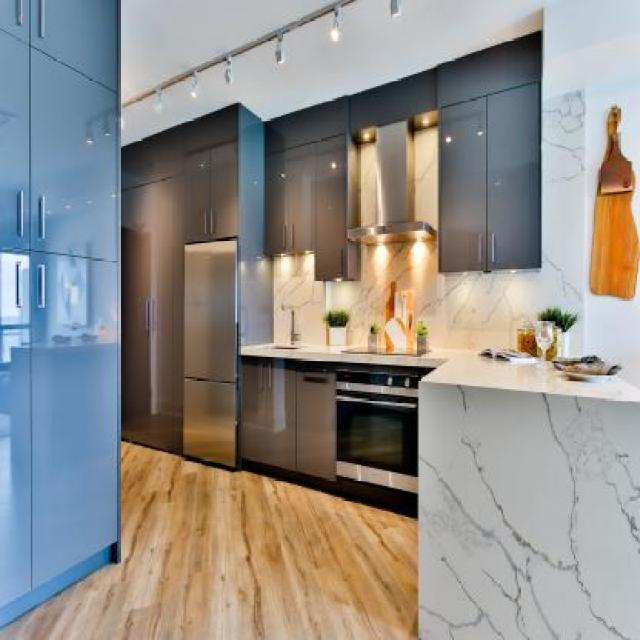Floor: (1, 439, 418, 639)
